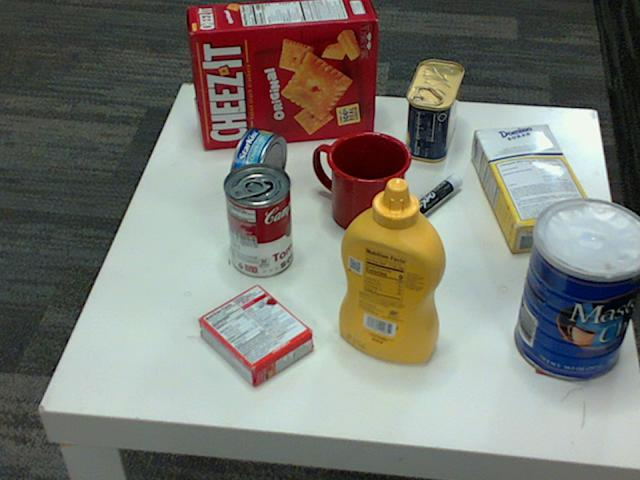cracker_box: (188, 0, 375, 146)
gelatin_box: (195, 284, 309, 388)
large_marker: (389, 177, 462, 236)
master_chef_can: (516, 199, 639, 382)
mug: (312, 129, 411, 232)
mustard_bottle: (338, 179, 446, 364)
potted_meat_can: (404, 61, 461, 163)
sugar_box: (471, 125, 598, 253)
tomato_soup_can: (223, 163, 292, 278)
tuna_fish_can: (228, 127, 286, 206)
